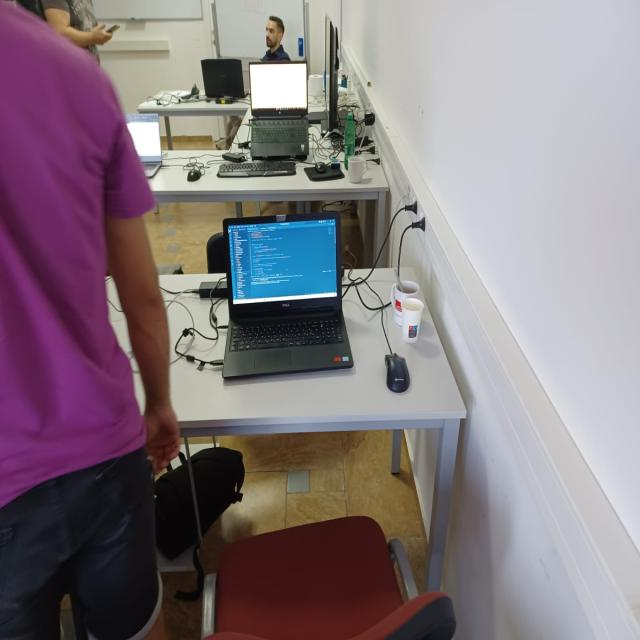Laptops_bbox: (202, 187, 381, 394)
